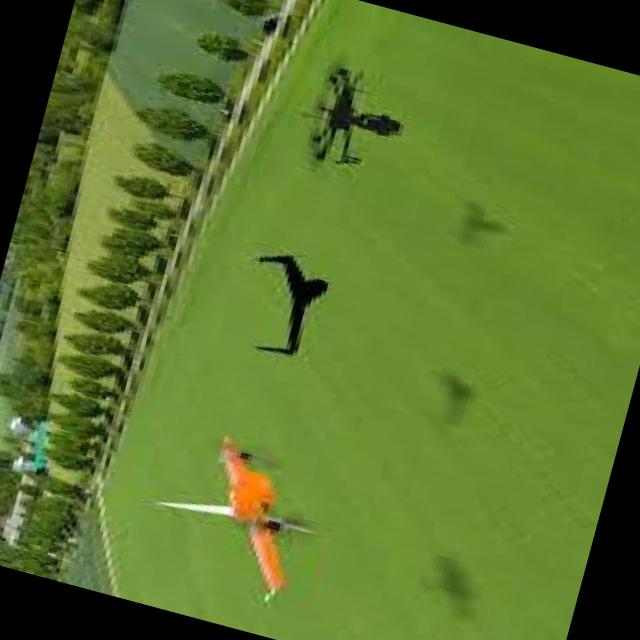UAV: (143, 429, 366, 636)
